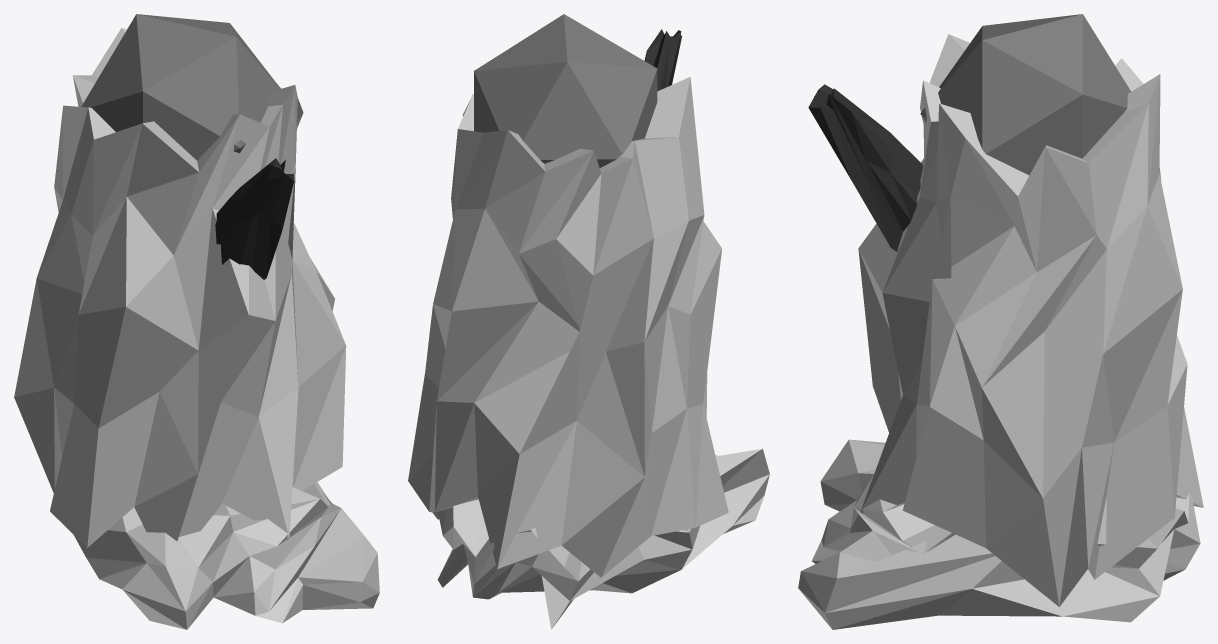
Rendered from Char_GL_Leg_Under.FBX.
3 renders of one model, left to right at view 1: azimuth 30°, elevation 25°; view 2: azimuth 150°, elevation 25°; view 3: azimuth 270°, elevation 25°, orthographic. The views are drawn at different scales.
Visible parts, largest first — view 1: GeoSphere006; view 2: GeoSphere006; view 3: GeoSphere006.
Part boxes in pixels (left/top/right/bottom): GeoSphere006: left=14, top=14, right=379, bottom=629; GeoSphere006: left=408, top=14, right=769, bottom=629; GeoSphere006: left=798, top=14, right=1203, bottom=629.
Bounding box in the file's own units: 13.95 × 27.17 × 17.79.
